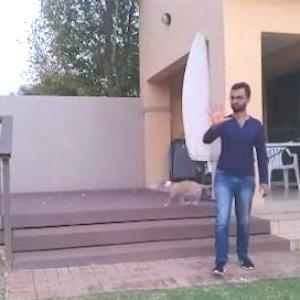follow_hand: (203, 96, 233, 128)
